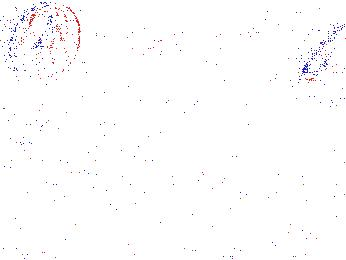moon jellyfish: (10, 1, 81, 80), (140, 38, 217, 106), (297, 26, 346, 108), (168, 10, 257, 46), (1, 109, 48, 162)
